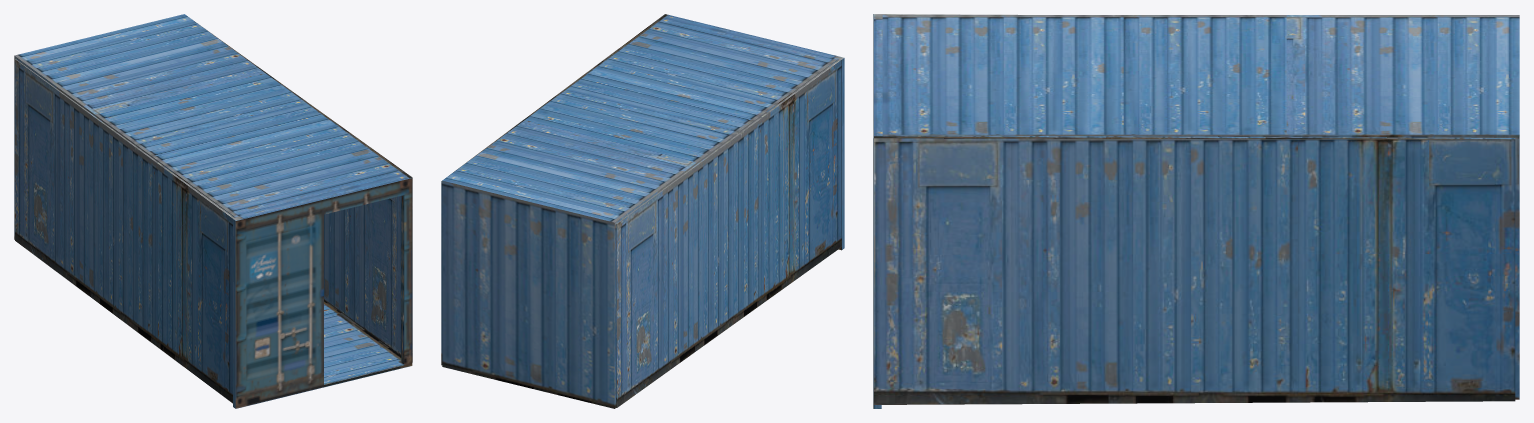
File: Container Blue door.FBX
3 views of the same model, side by side, from view 1: azimuth 30°, elevation 25°; view 2: azimuth 150°, elevation 25°; view 3: azimuth 270°, elevation 25° (orthographic). The views are drawn at different scales.
Parts seen in each view (by area): view 1: Container Blue Door; view 2: Container Blue Door; view 3: Container Blue Door.
Part boxes in pixels (bbox=[...]): Container Blue Door: bbox=[14, 14, 412, 408]; Container Blue Door: bbox=[441, 14, 844, 408]; Container Blue Door: bbox=[873, 14, 1519, 408].
Bounding box in the file's own units: 284 × 289 × 623.
Materials: 1 (1 with a texture image).
